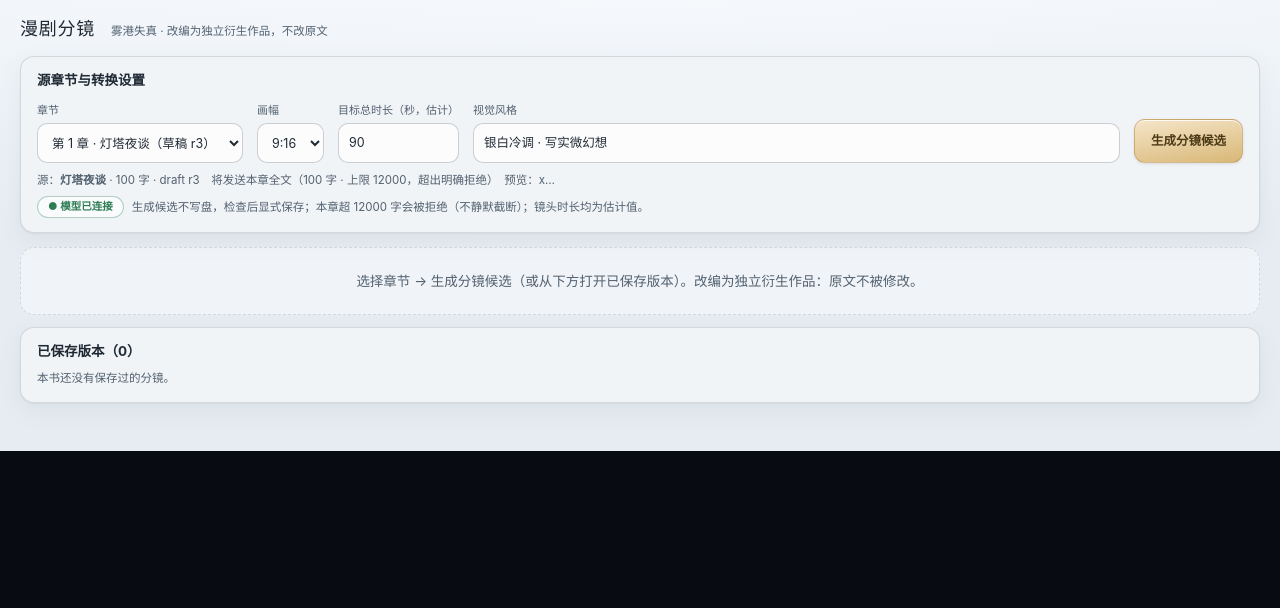
StoryboardView（T04 闭环） › 409 冲突：本地编辑保留 + 冲突横幅；不静默覆盖
The width and height of the screenshot is (1280, 608).
Click the button with test id "sb-generate". click: (1188, 141)
box: [1134,119,1243,163]
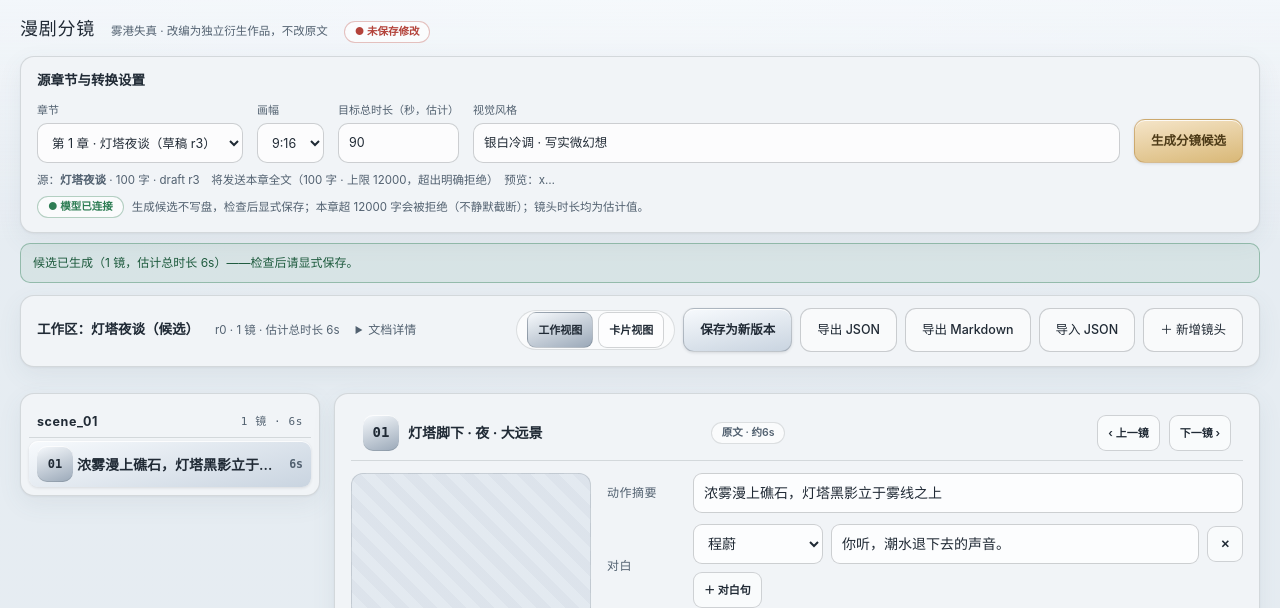
Click the button with test id "sb-view-cards". click: (631, 330)
box: [598,312,664,348]
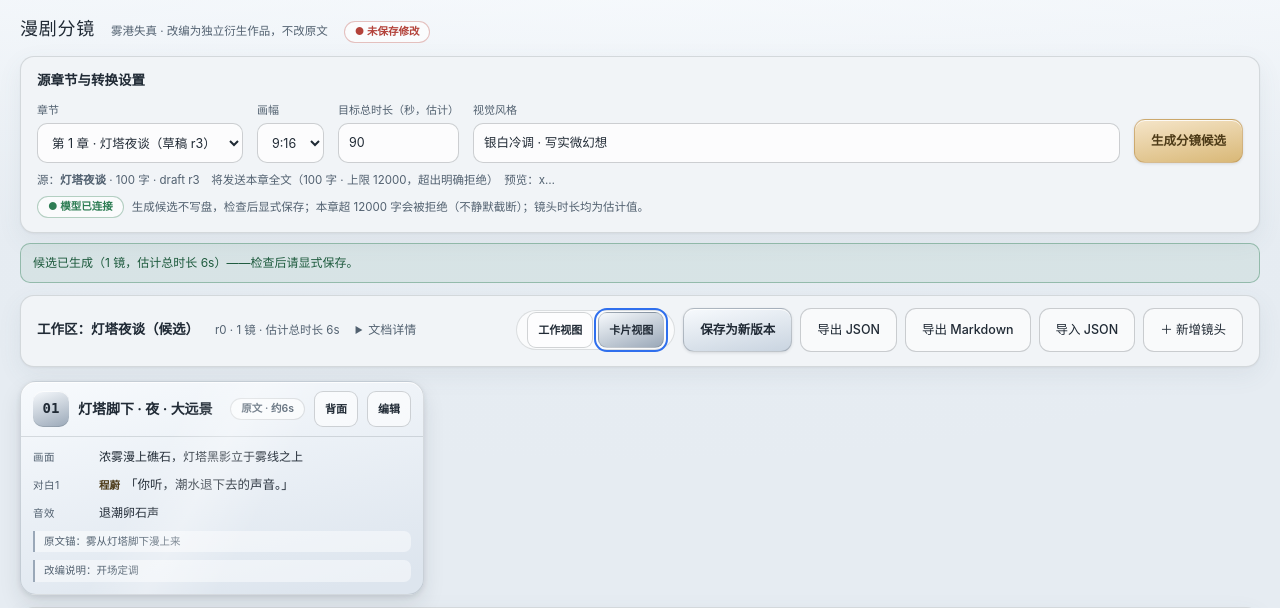
Click the button "编辑". click: (389, 409)
box: [367,391,411,427]
(page scrolled)
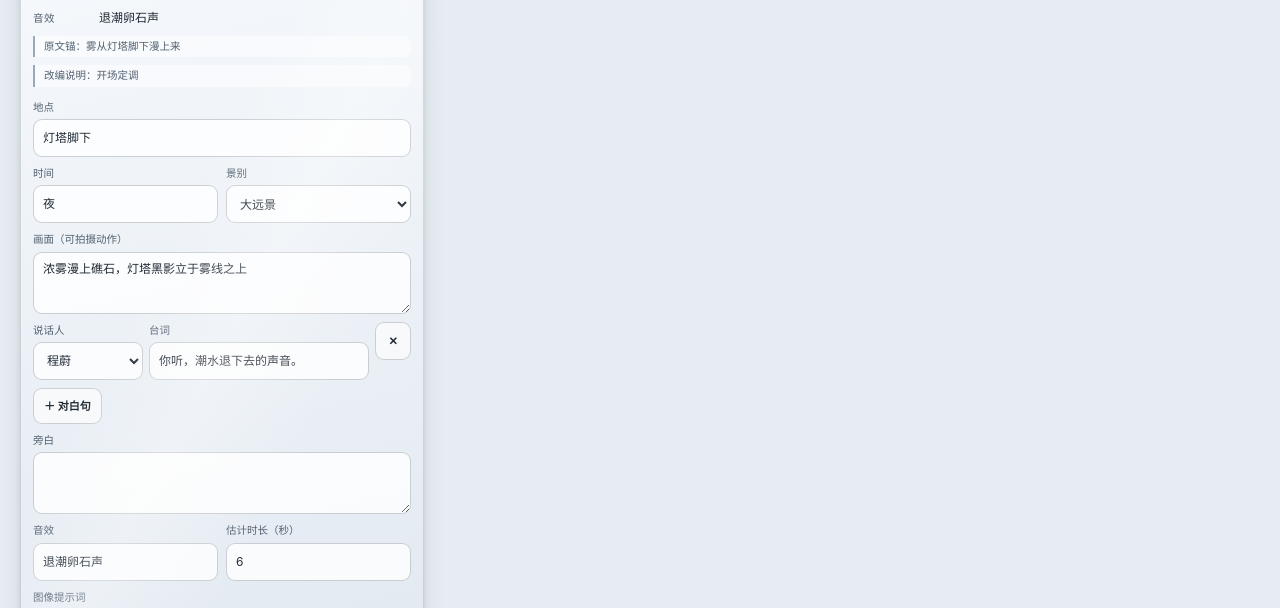
Type "（作者补充）" into the field showing "你听，潮水退下去的声音。". click: (259, 361)
box: [149,342,369,380]
(page scrolled)
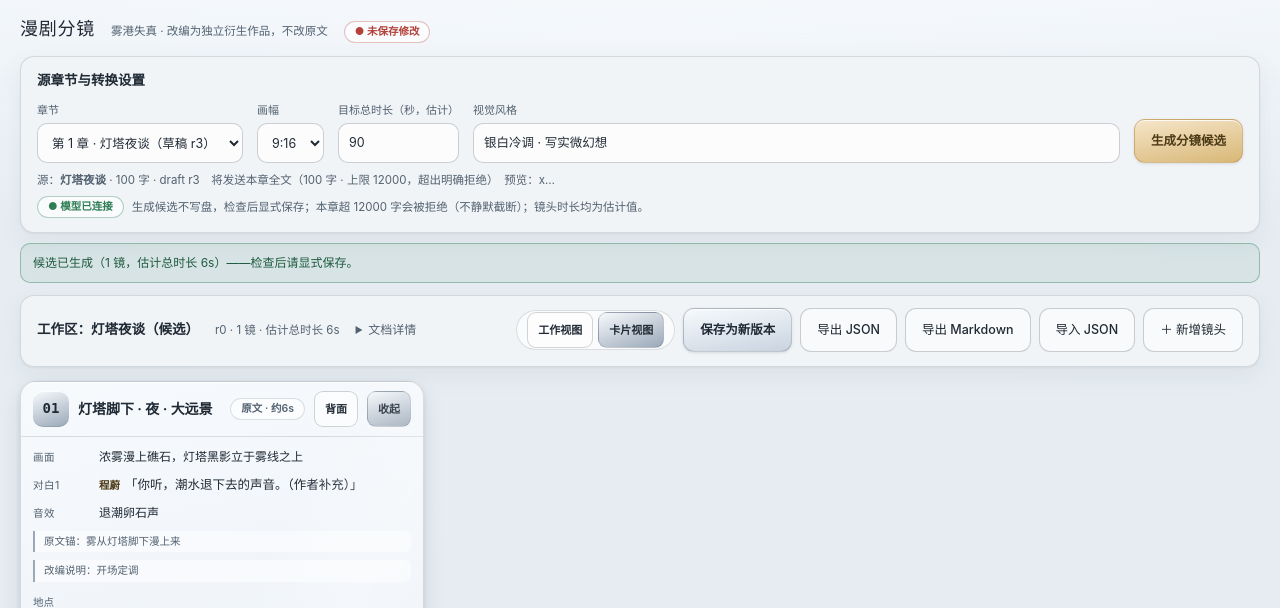
Click the button with test id "sb-save". click: (738, 330)
box: [683,308,792,352]
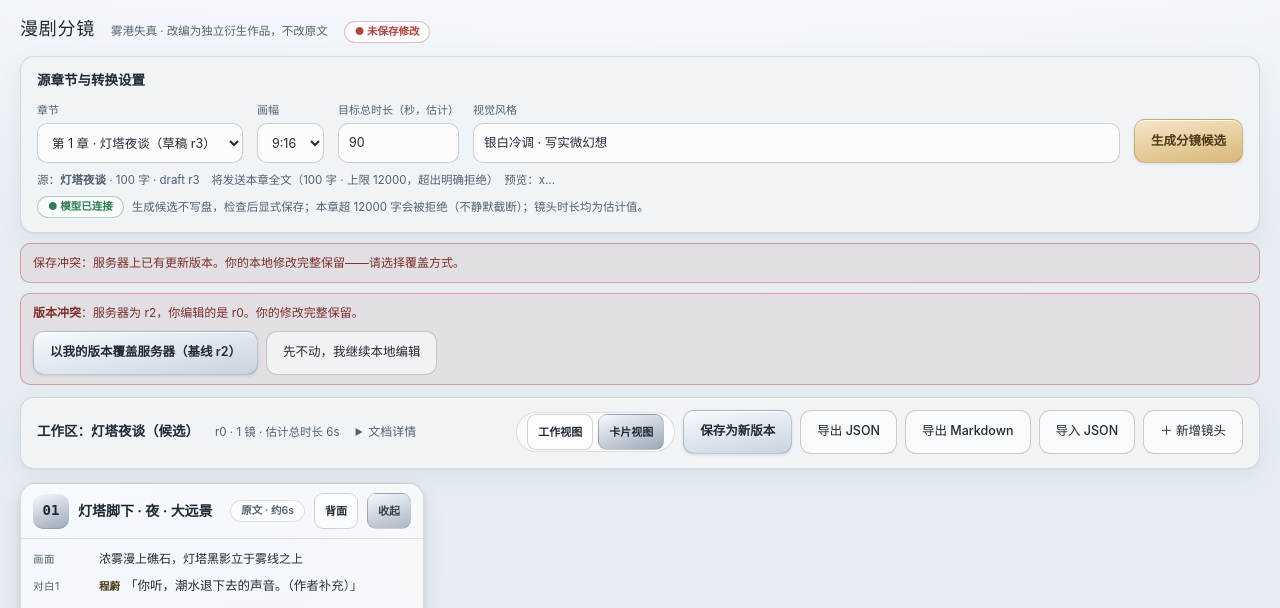
Now the message "版本冲突：服务器为 r2，你编辑的是 r0。你的修改完整保留。 以我的版本覆盖服务器（基线 r2） 先不动，我继续本地编辑" is shown, box [20,293,1260,385]
